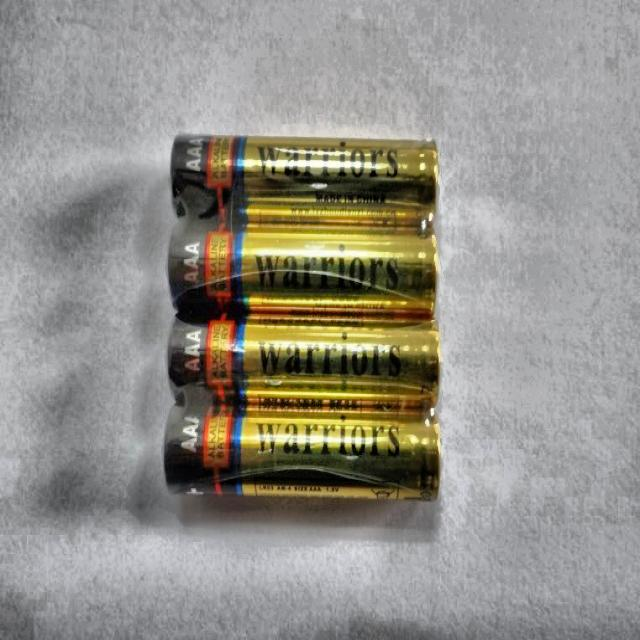Non-Valuable Waste - Batteries: (164, 135, 440, 498)
